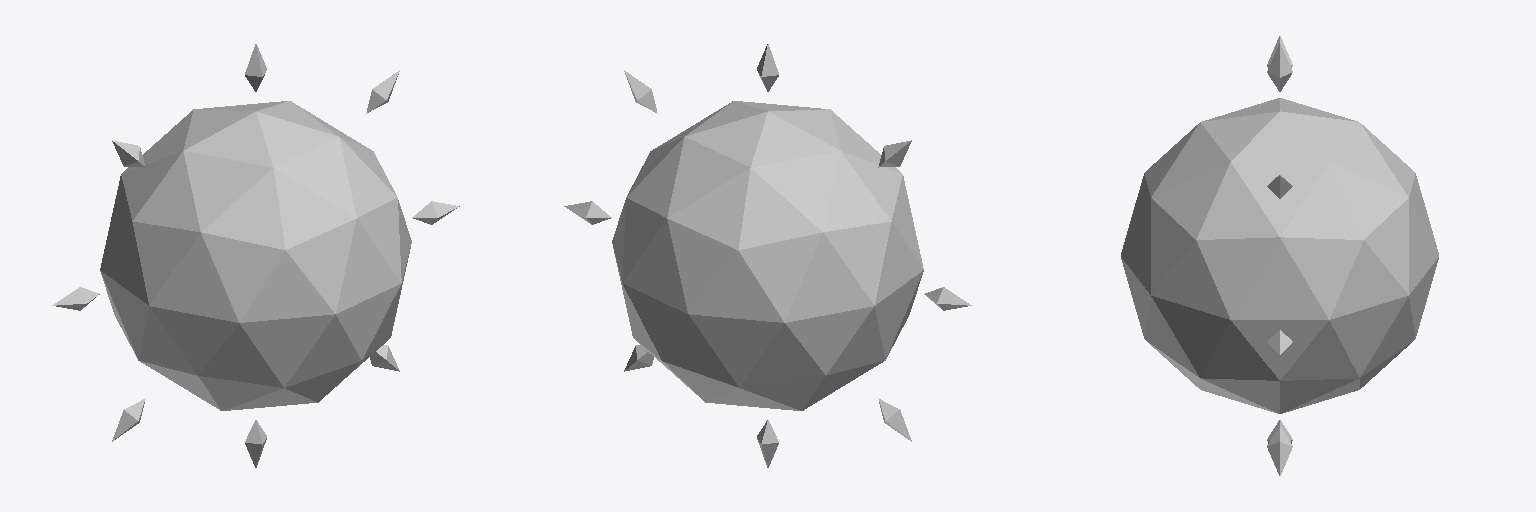
Rendered from sun_2.obj.
3 views of the same model, side by side, from view 1: azimuth 30°, elevation 25°; view 2: azimuth 150°, elevation 25°; view 3: azimuth 270°, elevation 25° (orthographic).
Parts seen in each view (by area): view 1: sun_2; view 2: sun_2; view 3: sun_2.
Part boxes in pixels (left/top/right/bottom): sun_2: left=52, top=44, right=459, bottom=467; sun_2: left=564, top=44, right=971, bottom=467; sun_2: left=1121, top=36, right=1438, bottom=475.
Bounding box in the file's own units: 2.21 × 2.21 × 1.5.